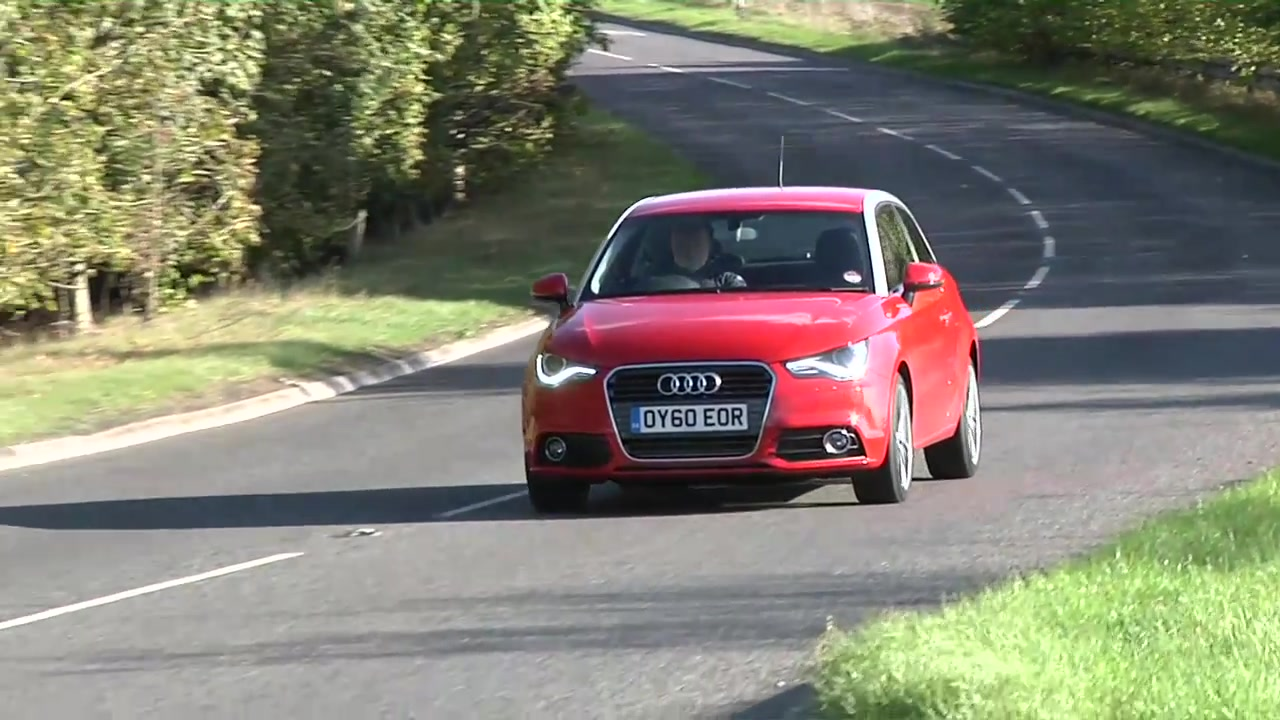car: (518, 181, 986, 517)
